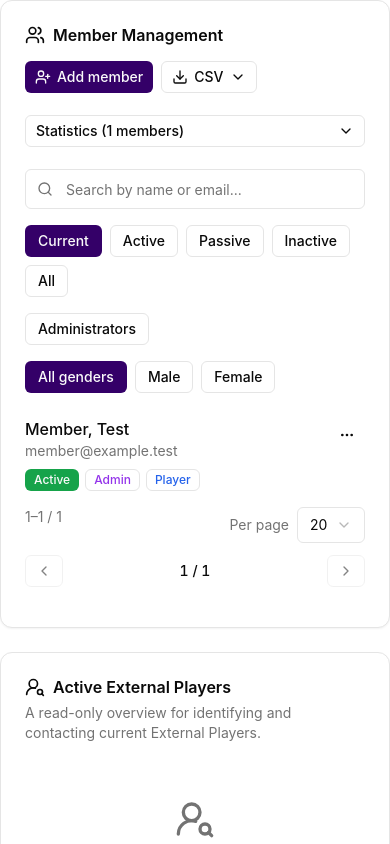
Test: MemberCenter member projection › renders a dedicated mobile task item and keeps READY setup quiet there
The image size is (390, 844).
Expected: the heading "Member, Test" is shown, [25,419,129,439]
Expected: the text "member@example.test" is shown, [25,442,178,459]
Click the button named "Actions for Member, Test" at (347, 435), box [329,417,365,453]
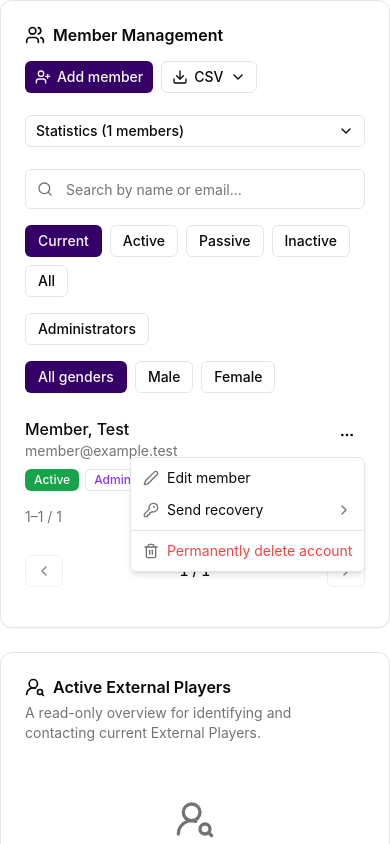
Expected: the menu item "Edit member" is shown, [143,469,251,486]
Expected: the menu item "Send recovery" is shown, [143,501,352,518]
